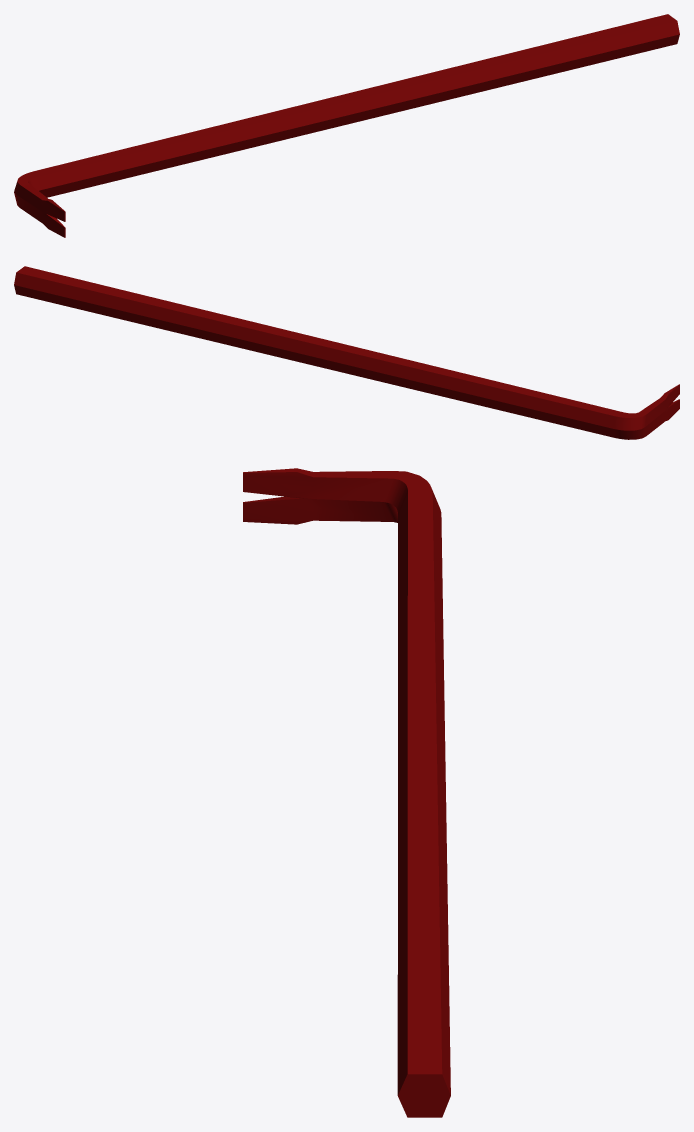
Rendered from Palanca.fbx.
The picture shows the model from 3 angles, top to bottom: view 1: azimuth 30°, elevation 25°; view 2: azimuth 150°, elevation 25°; view 3: azimuth 270°, elevation 25°; orthographic projection. The views are drawn at different scales.
Visible parts, largest first — view 1: Palanca; view 2: Palanca; view 3: Palanca.
Boxes of the visible parts, x1,y1,x2,y2 form: Palanca: (14,14,679,237); Palanca: (14,266,679,439); Palanca: (243,468,450,1117).
Size of the model in its own units: 0.5964 by 0.0242 by 0.0867.
